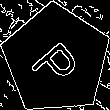P_NE: (26, 29, 87, 90)
